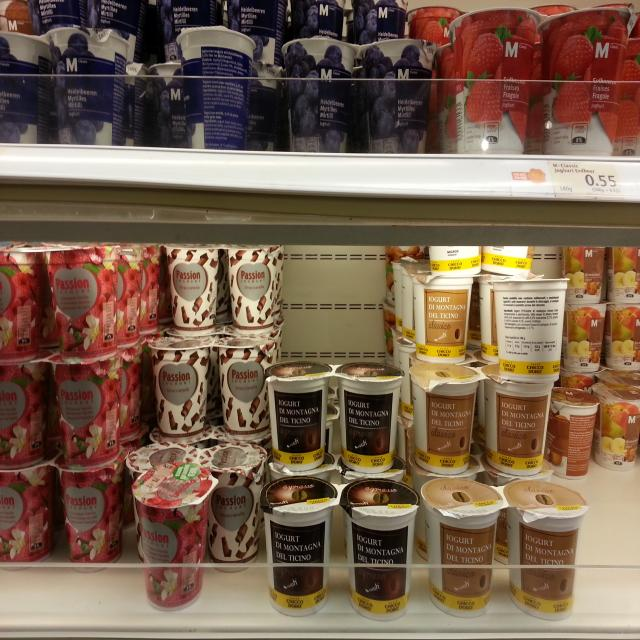Yoghurt: (446, 7, 640, 157), (256, 476, 422, 620), (420, 482, 582, 621), (278, 33, 441, 155), (262, 358, 406, 478), (402, 362, 550, 478), (0, 238, 144, 354), (0, 346, 140, 462), (0, 28, 140, 144), (0, 452, 130, 568), (142, 336, 285, 439), (125, 463, 220, 611), (157, 238, 289, 335), (410, 273, 550, 361), (170, 22, 261, 150), (487, 276, 569, 381), (562, 304, 640, 371), (559, 242, 640, 302), (594, 369, 640, 469), (550, 385, 597, 479)
